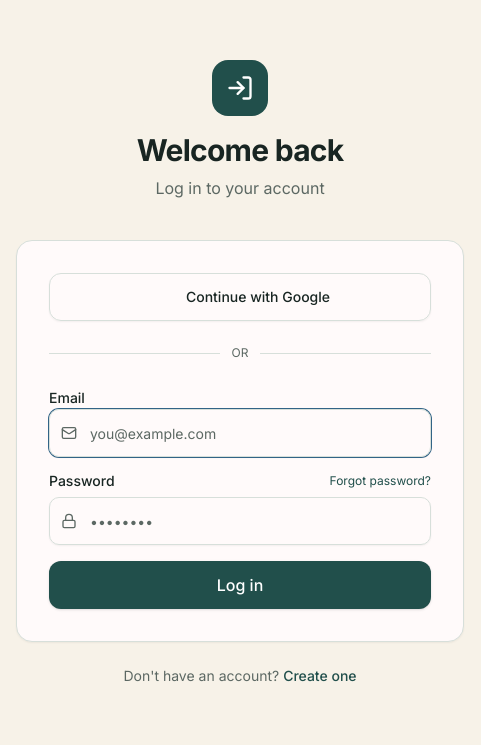
auth route integration › login and registration routes are reachable even if public settings fail
Expected: the heading "Welcome back" is shown, [137,132,343,168]
Step 1. Click the link "Create one" → [320, 676], box [283,667,356,684]
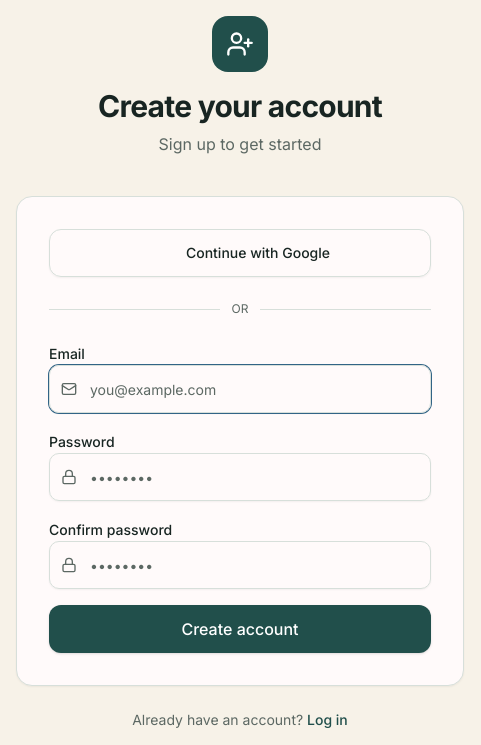
Expected: the heading "Create your account" is shown, [98,88,382,124]
